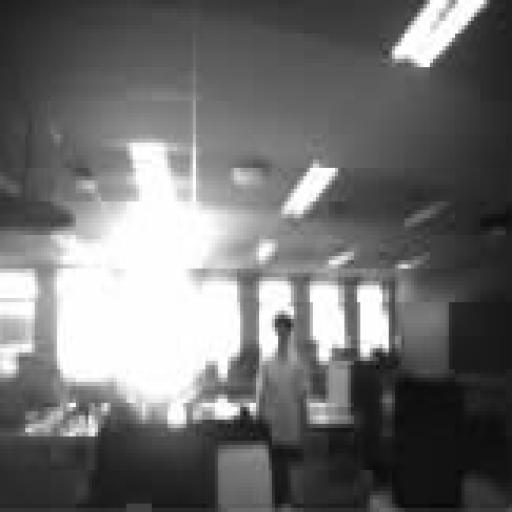human: (256, 315, 306, 507)
